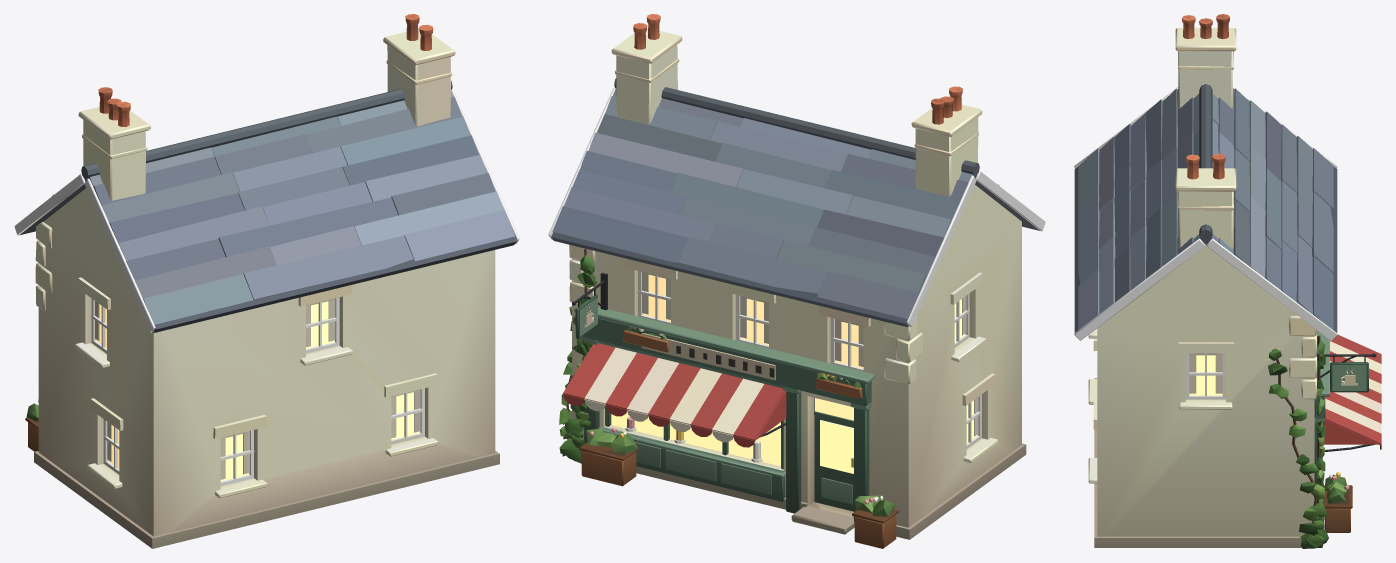
File: cafe-hero.glb
3 views of the same model, side by side, from view 1: azimuth 30°, elevation 25°; view 2: azimuth 150°, elevation 25°; view 3: azimuth 270°, elevation 25° (orthographic). The views are drawn at different scales.
Parts seen in each view (by area): view 1: cafe-hero; view 2: cafe-hero; view 3: cafe-hero.
Part boxes in pixels (x1,y1,x2,y2): cafe-hero: [14, 14, 519, 548]; cafe-hero: [548, 14, 1045, 548]; cafe-hero: [1074, 14, 1381, 548].
Bounding box in the file's own units: 5.14 × 5.42 × 3.96.
